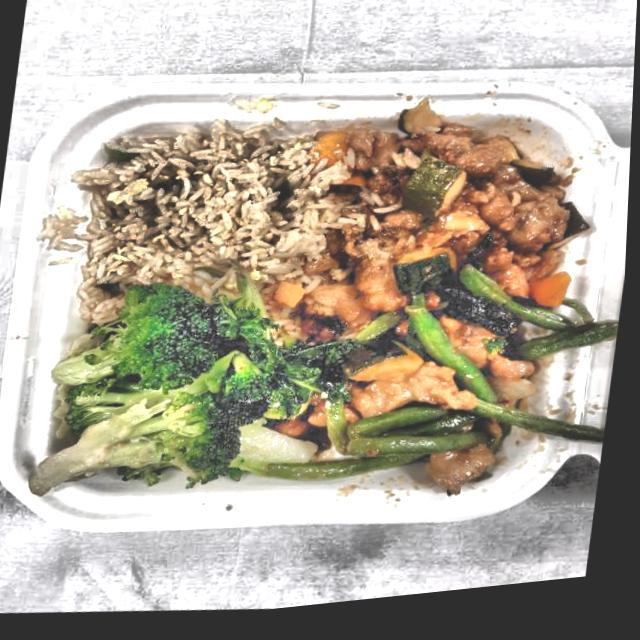Food: (291, 90, 602, 359), (301, 269, 627, 525), (38, 272, 319, 520), (61, 104, 328, 328)
